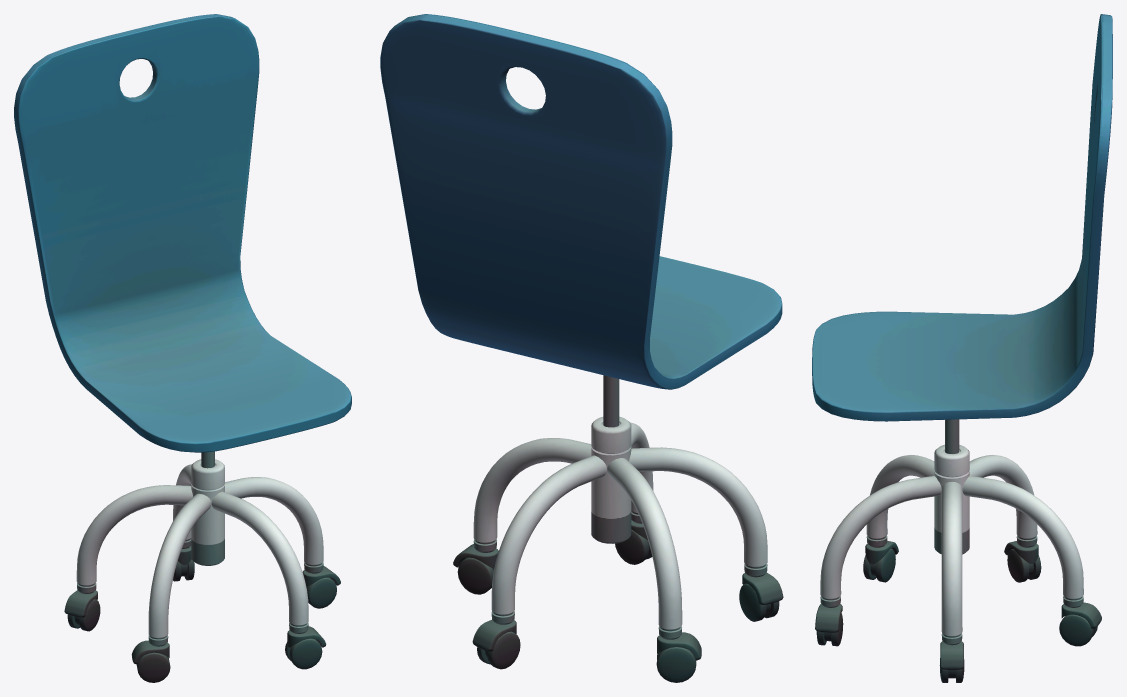
The model's file is chair.fbx.
The picture shows the model from 3 angles, left to right: view 1: azimuth 30°, elevation 25°; view 2: azimuth 150°, elevation 25°; view 3: azimuth 270°, elevation 25°; orthographic projection. The views are drawn at different scales.
Parts seen in each view (by area): view 1: node_id30; view 2: node_id30; view 3: node_id30.
Part boxes in pixels (box(x1,y1,x2,y2)): node_id30: box(14, 14, 351, 682); node_id30: box(380, 14, 783, 682); node_id30: box(812, 14, 1112, 682).
Bounding box in the file's own units: 0.2438 × 0.512 × 0.2441.
1 material, 1 textured.
